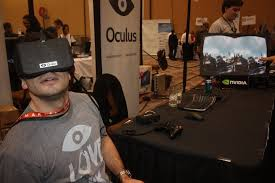oculus: (17, 38, 75, 75)
